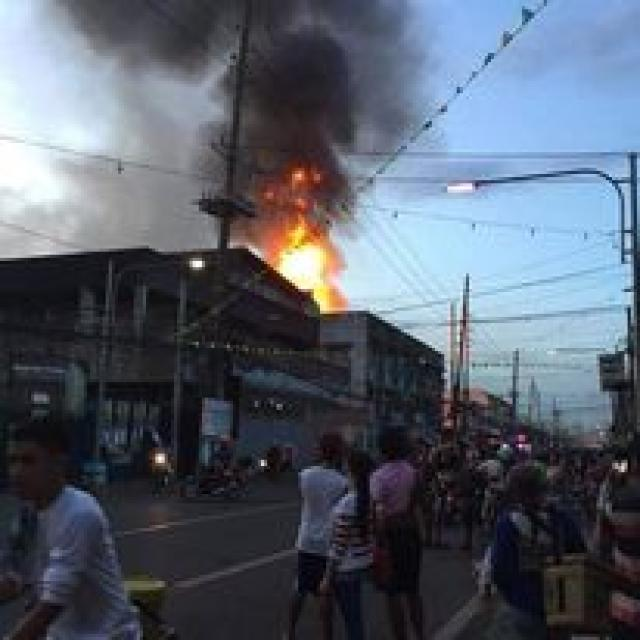Fire: (269, 181, 337, 307)
Smoke: (39, 0, 390, 262)
